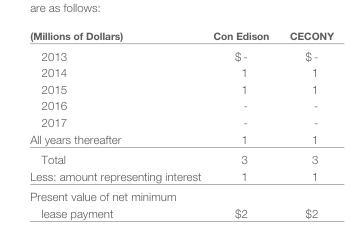table: (29, 29, 333, 219)
table column: (29, 29, 206, 219), (206, 29, 278, 219), (278, 29, 333, 219)
table column header: (29, 29, 333, 44)
table row: (29, 185, 333, 219), (29, 44, 333, 63), (29, 129, 333, 148), (29, 148, 333, 167), (29, 167, 333, 185), (29, 63, 333, 80), (29, 96, 333, 113), (29, 80, 333, 96), (29, 113, 333, 129), (29, 29, 333, 44)
